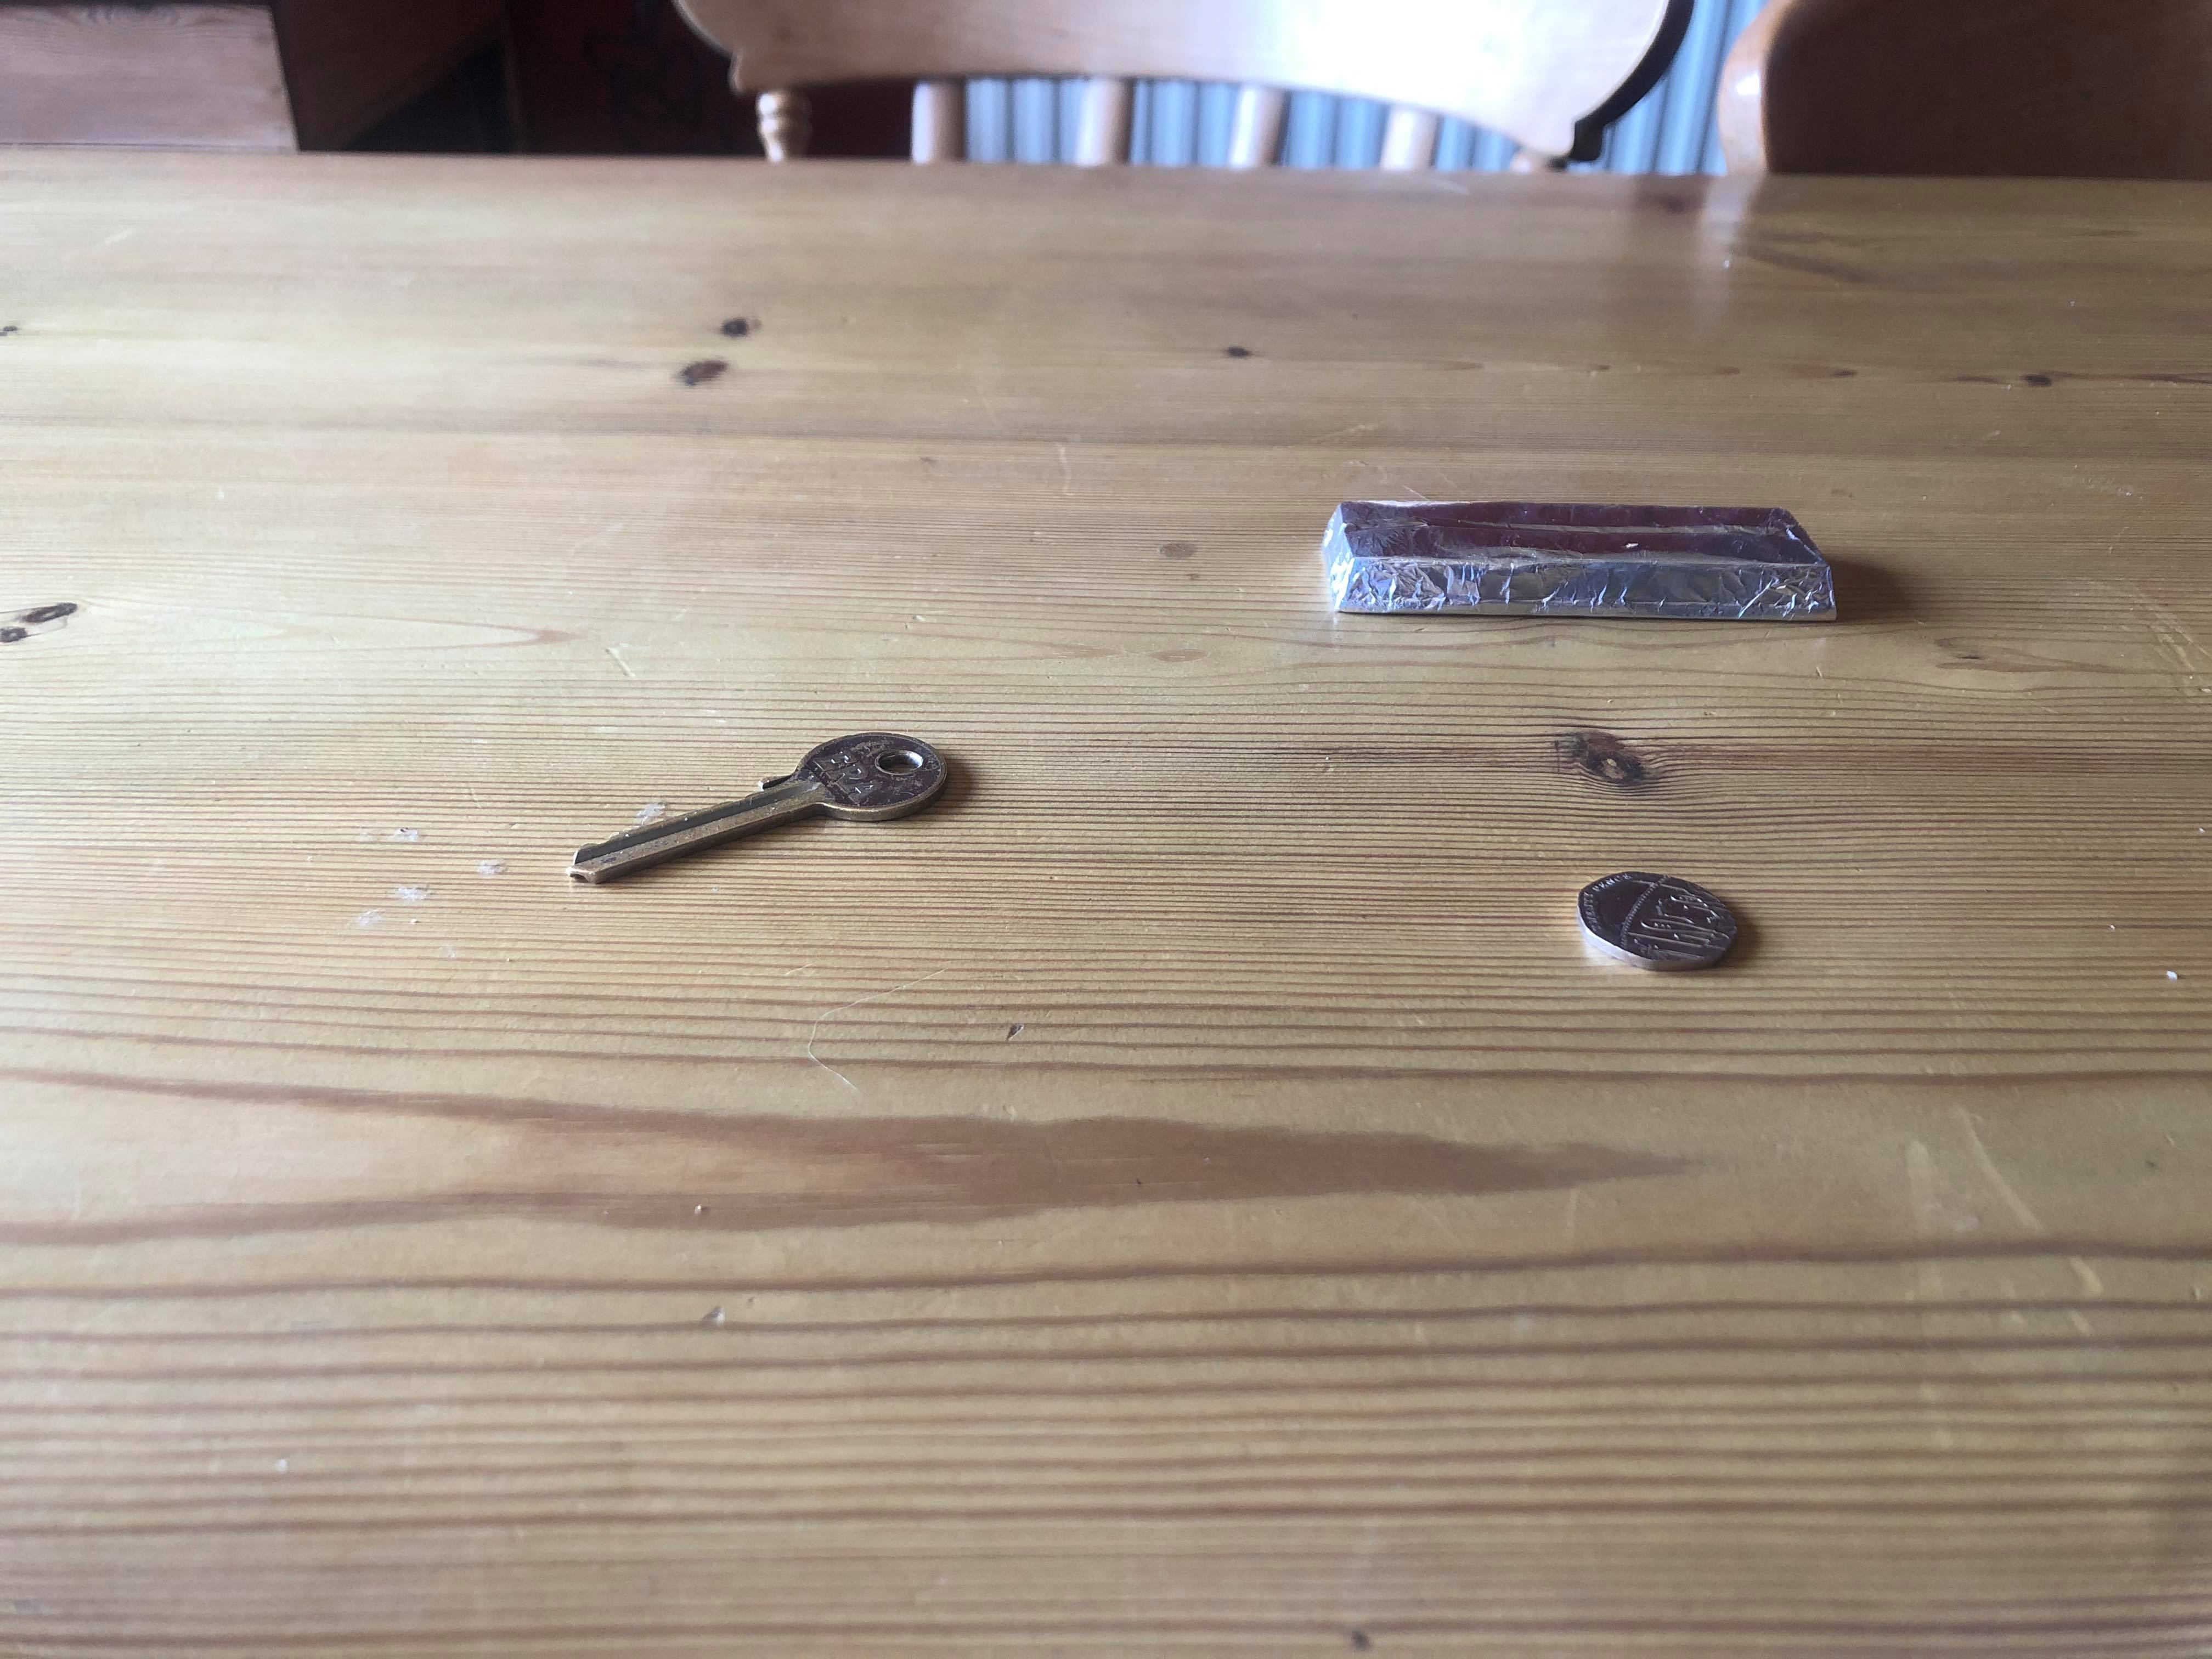Coin: (1554, 859, 1754, 986)
Foil: (1306, 497, 1850, 640)
Key: (571, 727, 961, 889)
